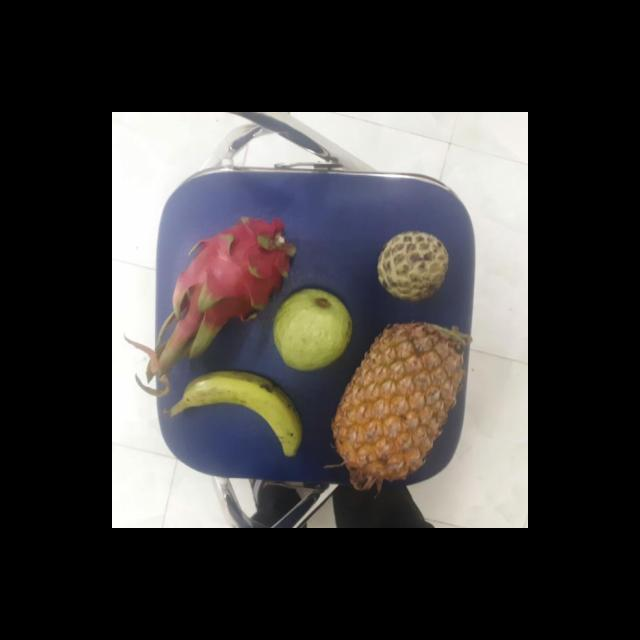Sakya fruit: (374, 230, 450, 300)
banana: (182, 368, 306, 459)
guava: (268, 288, 353, 370)
pineapple: (328, 324, 465, 486)
pitaya: (174, 216, 293, 322)
